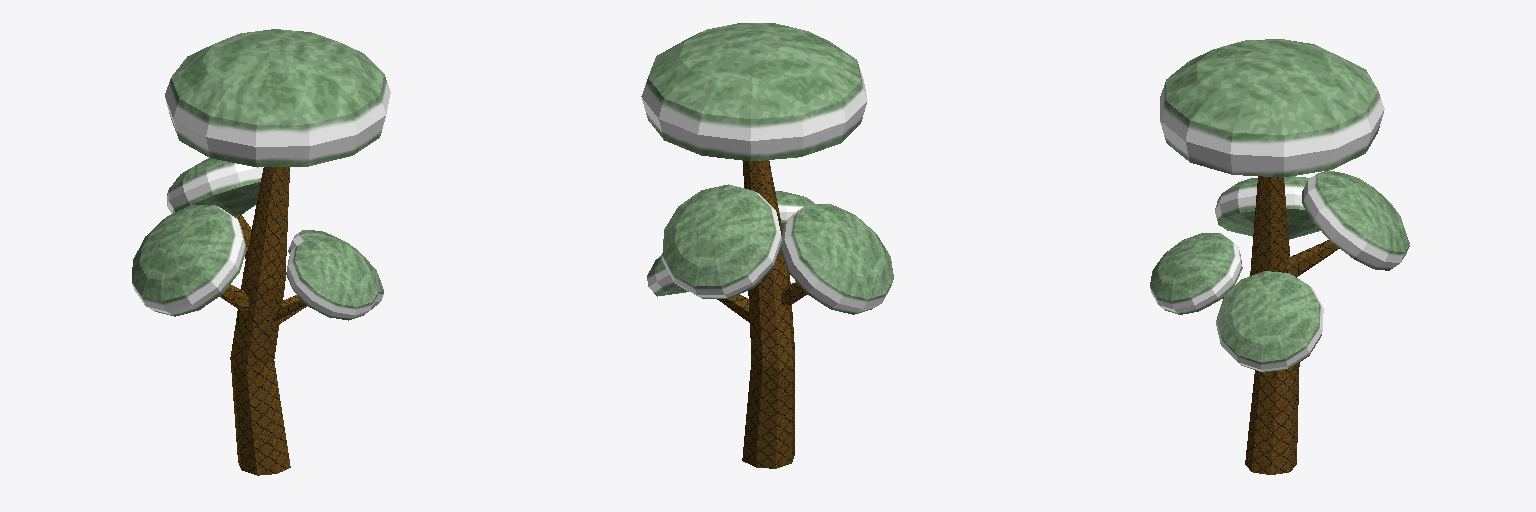
The picture shows the model from 3 angles: view 1: azimuth 30°, elevation 25°; view 2: azimuth 150°, elevation 25°; view 3: azimuth 270°, elevation 25°; orthographic projection.
Visible parts, largest first — view 1: tree1mesh_tree1poly; view 2: tree1mesh_tree1poly; view 3: tree1mesh_tree1poly.
Part boxes in pixels (x1,y1,x2,y2): tree1mesh_tree1poly: (132,29,390,475); tree1mesh_tree1poly: (641,23,893,468); tree1mesh_tree1poly: (1150,39,1409,474).
Size of the model in its own units: 1.77 by 3 by 1.72.
1 materials, 1 textured.